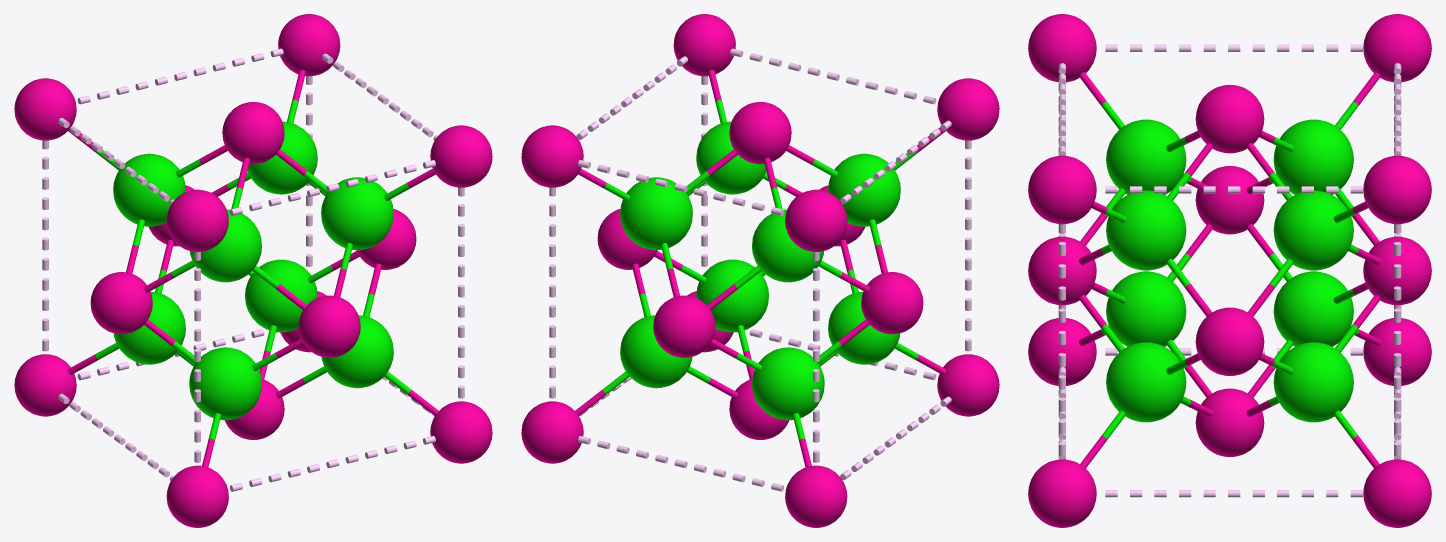
File: fluorite_ionic.glb
3 views of the same model, side by side, from view 1: azimuth 30°, elevation 25°; view 2: azimuth 150°, elevation 25°; view 3: azimuth 270°, elevation 25° (orthographic). The views are drawn at different scales.
Visible parts, largest first — view 1: F18, F02, F13, F20, Ca04, Ca01, Ca06, Ca14, Ca17, Ca03, Ca07, F16 (+19 smaller); view 2: F22, F10, F08, F16, Ca11, Ca09, Ca12, Ca19, Ca21, Ca03, Ca07, Ca06 (+19 smaller); view 3: F16, F20, F18, F22, F02, F10, F13, F08, Ca17, Ca21, Ca14, Ca15 (+31 smaller).
Boxes of the visible parts, x1=… form: F18: x1=321, y1=177, x2=393, y2=250; F02: x1=189, y1=347, x2=261, y2=420; F13: x1=113, y1=153, x2=185, y2=226; F20: x1=245, y1=259, x2=317, y2=332; Ca04: x1=298, y1=295, x2=360, y2=357; Ca01: x1=166, y1=465, x2=228, y2=527; Ca06: x1=166, y1=189, x2=228, y2=251; Ca14: x1=430, y1=401, x2=492, y2=463; Ca17: x1=430, y1=125, x2=492, y2=187; Ca03: x1=90, y1=272, x2=152, y2=334; Ca07: x1=222, y1=102, x2=284, y2=164; F16: x1=321, y1=315, x2=393, y2=388; F22: x1=620, y1=177, x2=692, y2=250; F10: x1=752, y1=347, x2=824, y2=420; F08: x1=828, y1=153, x2=900, y2=226; F16: x1=696, y1=259, x2=768, y2=332; Ca11: x1=653, y1=295, x2=715, y2=357; Ca09: x1=785, y1=465, x2=847, y2=527; Ca12: x1=785, y1=189, x2=847, y2=251; Ca19: x1=521, y1=401, x2=583, y2=463; Ca21: x1=521, y1=125, x2=583, y2=187; Ca03: x1=861, y1=272, x2=923, y2=334; Ca07: x1=729, y1=102, x2=791, y2=164; Ca06: x1=937, y1=78, x2=999, y2=140; F16: x1=1106, y1=342, x2=1186, y2=422; F20: x1=1273, y1=342, x2=1353, y2=422; F18: x1=1106, y1=190, x2=1186, y2=270; F22: x1=1273, y1=190, x2=1353, y2=270; F02: x1=1106, y1=271, x2=1186, y2=346; F10: x1=1273, y1=271, x2=1353, y2=346; F13: x1=1273, y1=119, x2=1353, y2=194; F08: x1=1106, y1=119, x2=1186, y2=194; Ca17: x1=1028, y1=155, x2=1096, y2=224; Ca21: x1=1363, y1=155, x2=1431, y2=224; Ca14: x1=1028, y1=459, x2=1096, y2=527; Ca15: x1=1195, y1=307, x2=1264, y2=375.
Bounding box in the file's own units: 6.58 × 6.58 × 6.58.
